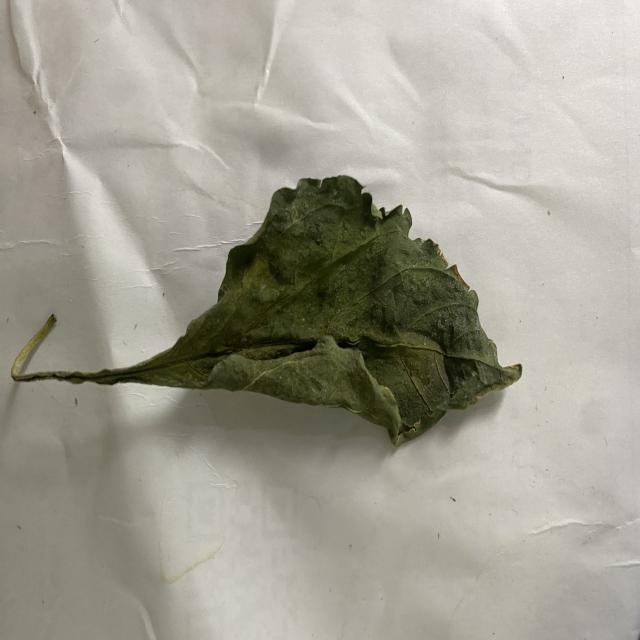Leaf: (130, 172, 524, 449)
